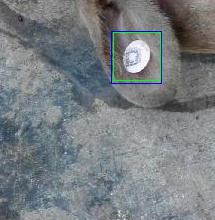text: (113, 32, 160, 80)
